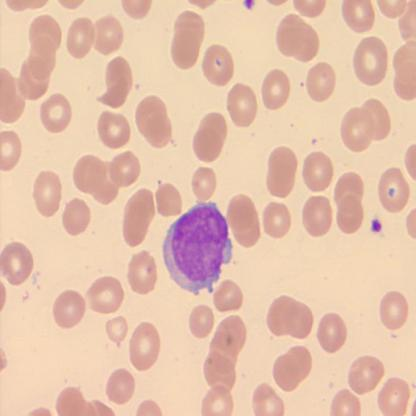Blast: (160, 197, 232, 296)
